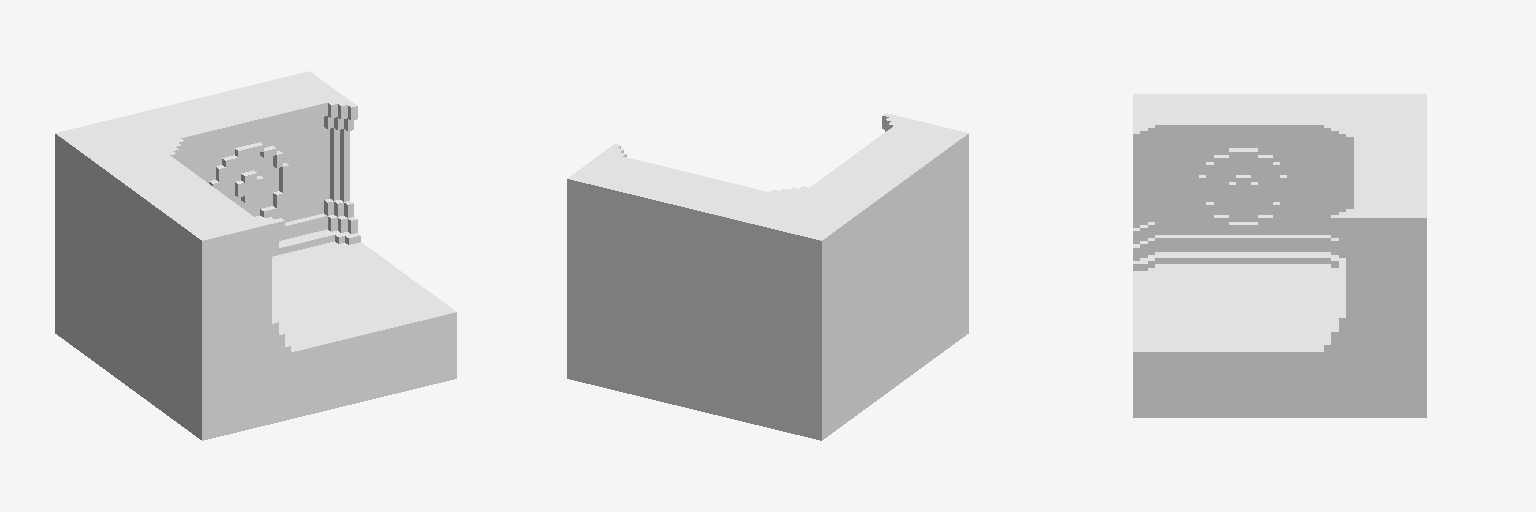
The model's file is concave_corner.obj.
The picture shows the model from 3 angles: view 1: azimuth 30°, elevation 25°; view 2: azimuth 150°, elevation 25°; view 3: azimuth 270°, elevation 25°; orthographic projection.
Bounding box in the file's own units: 40 × 30 × 40.